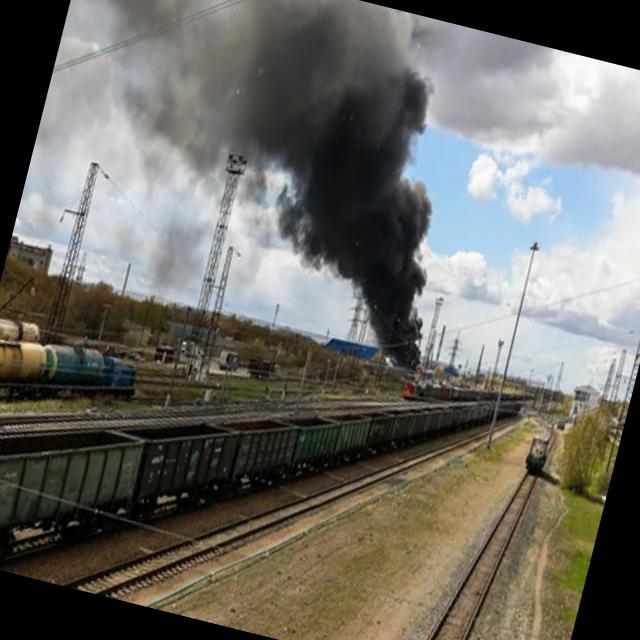Smoke: (173, 0, 503, 370)
